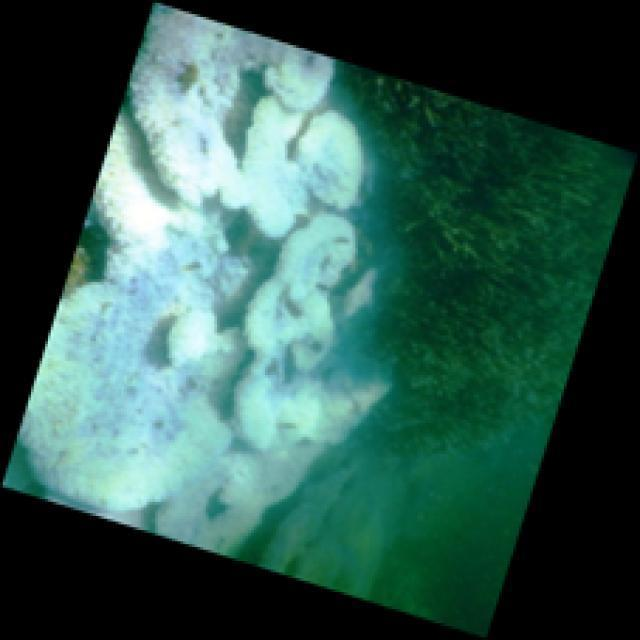Bleached: (26, 1, 391, 557), (19, 283, 230, 509), (127, 1, 282, 201), (298, 112, 370, 211)
